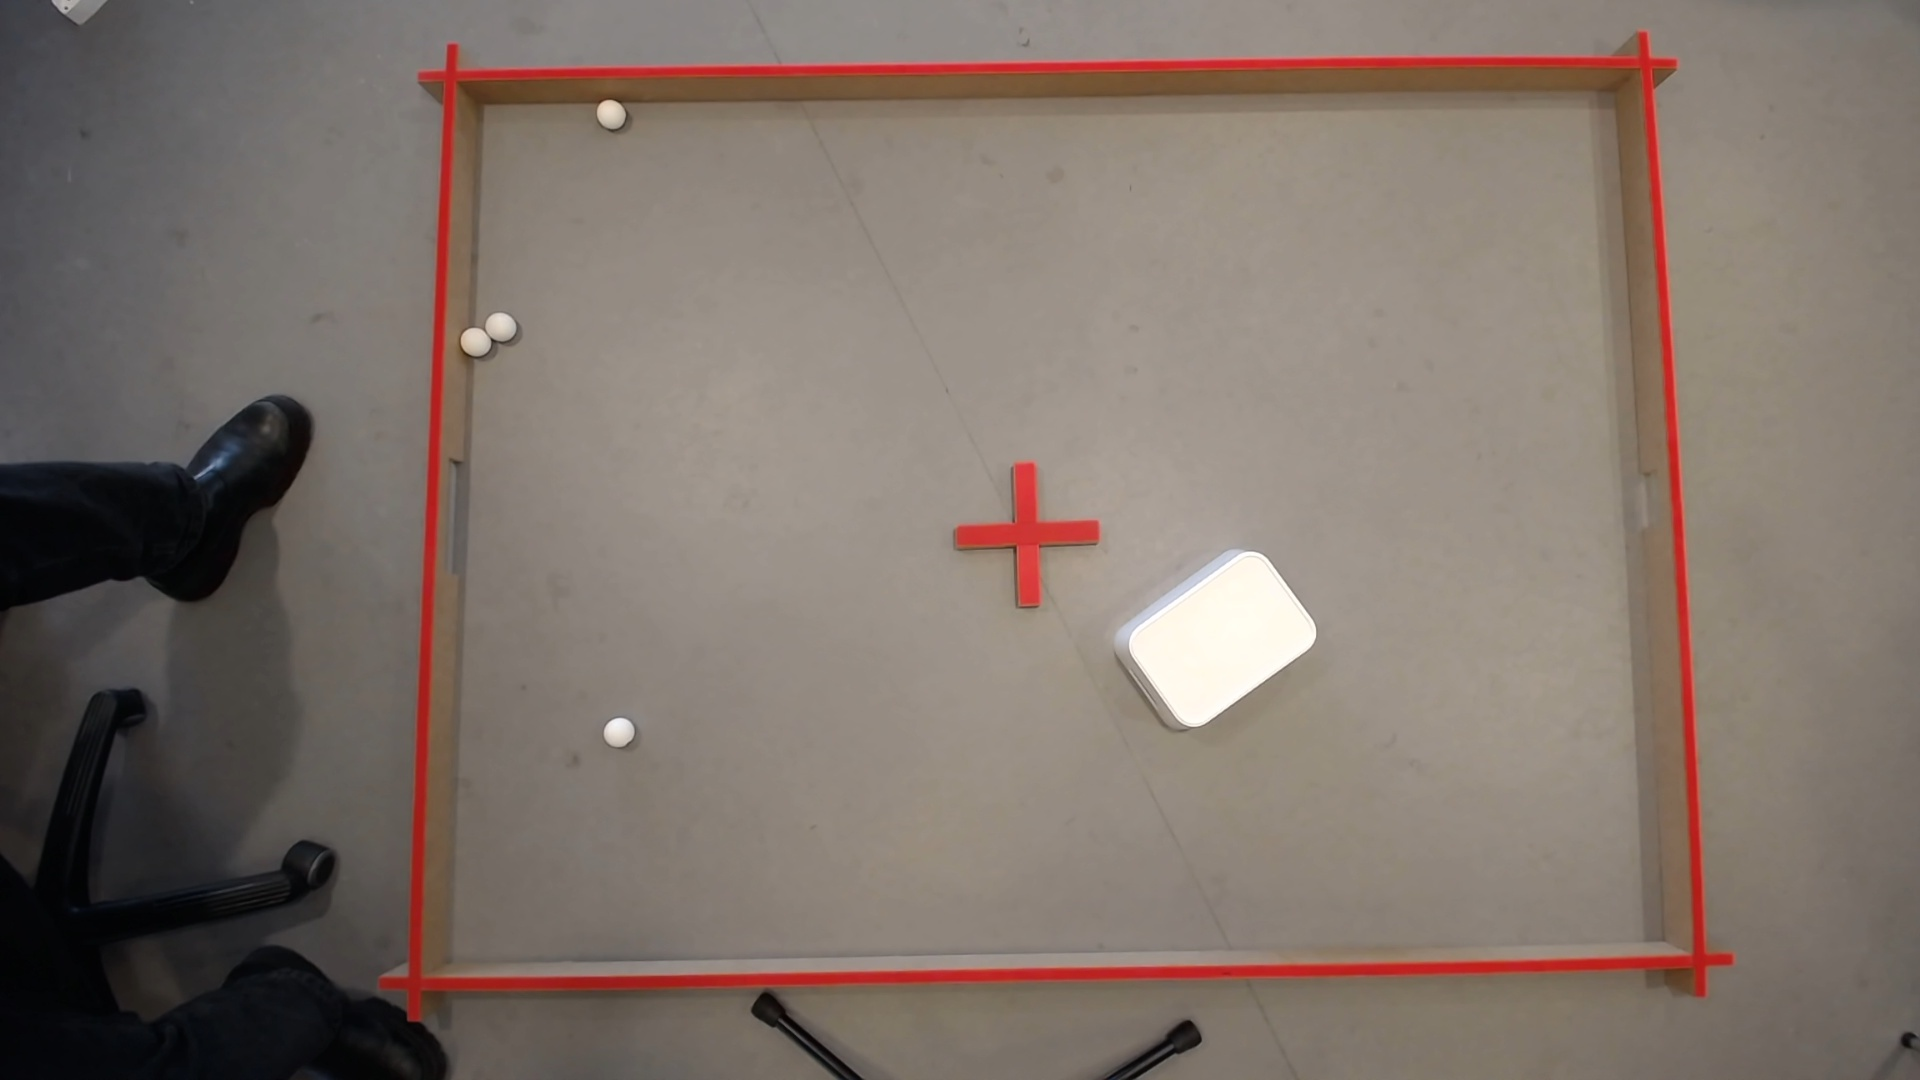balls: (1113, 533, 1325, 736), (600, 711, 636, 748), (483, 307, 516, 338), (597, 100, 621, 121)
car: (464, 327, 487, 348)
